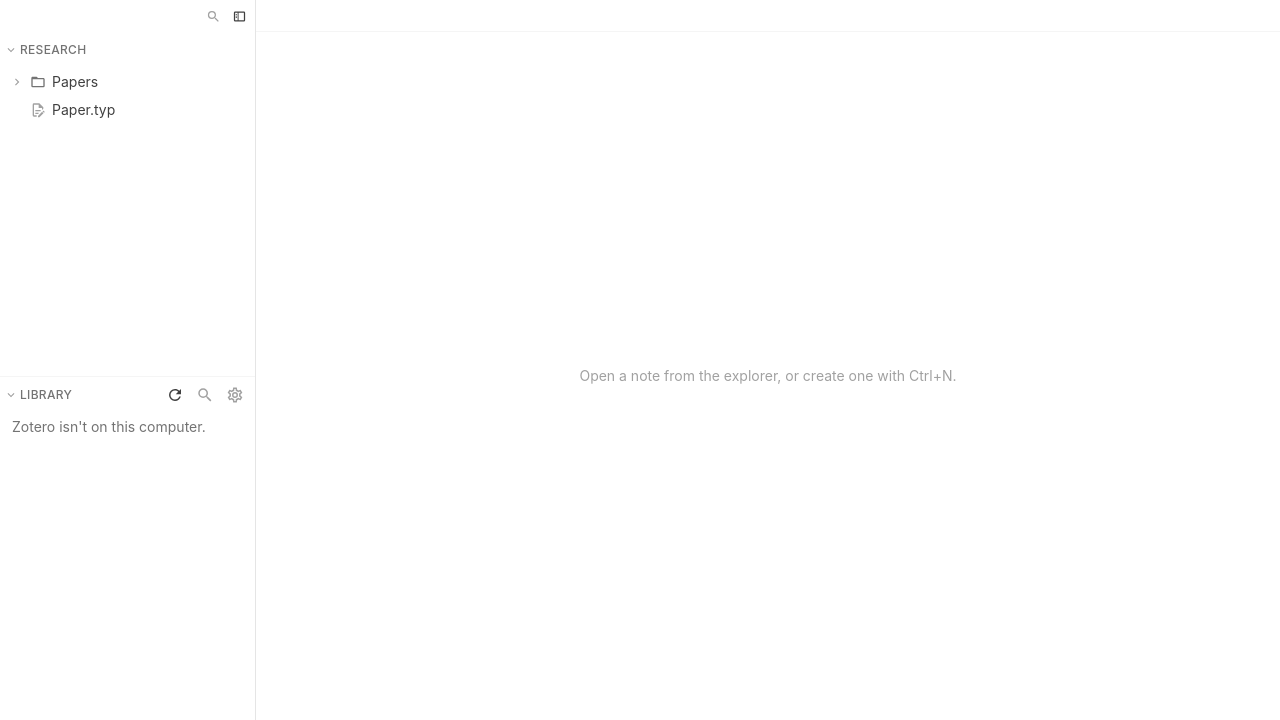
Test: Going to a page › typing a page number there goes to it
Click the button "Papers": (128, 82) [6,68,249,96]
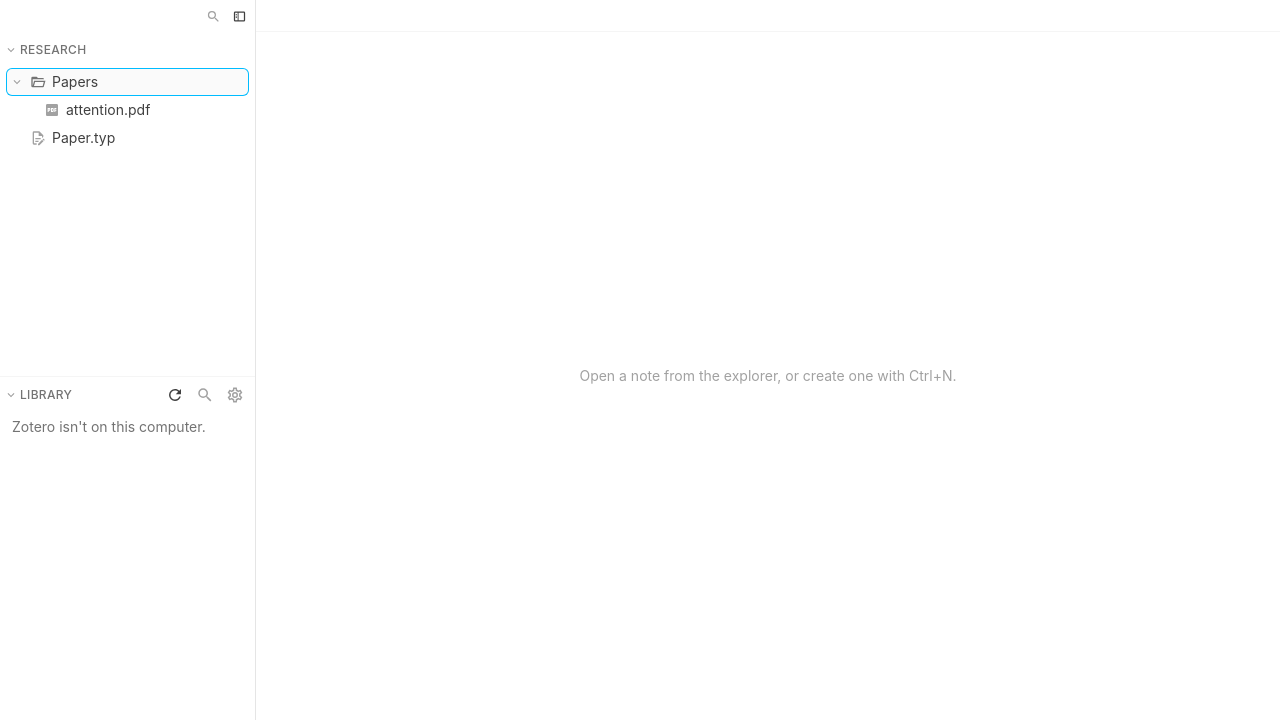
Click the button "attention.pdf": (128, 110) [6,96,249,124]
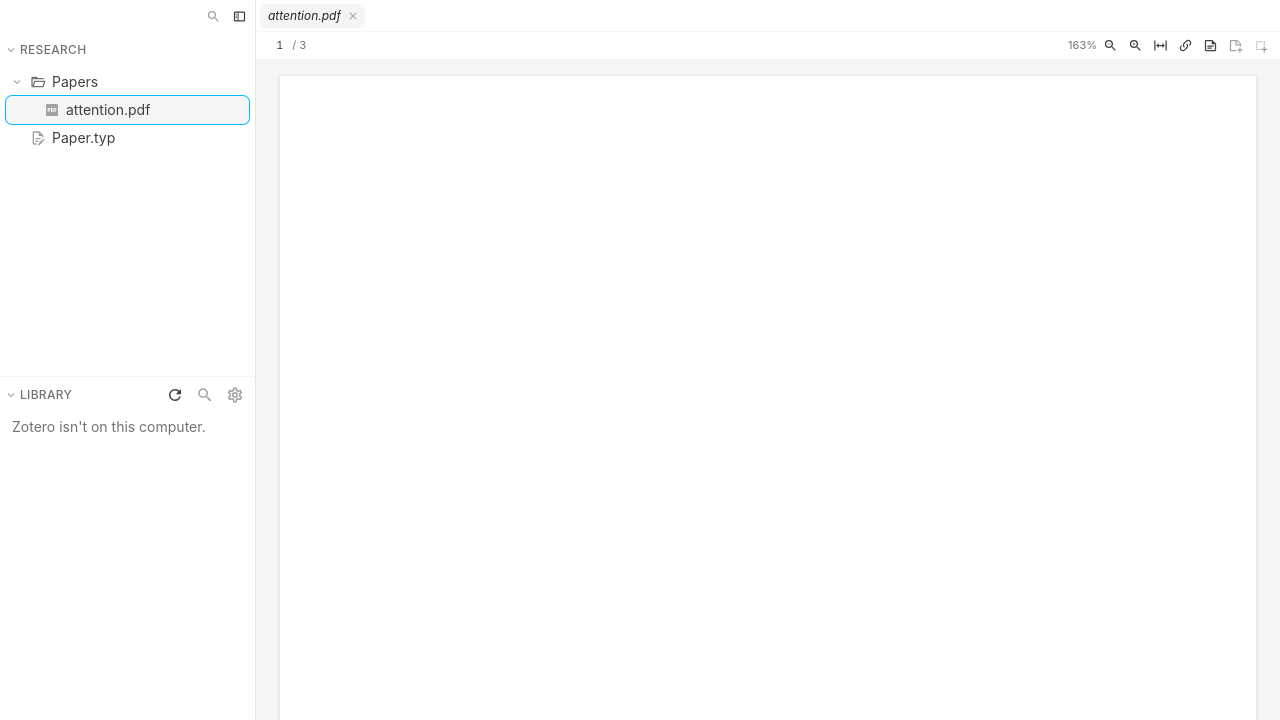
Click the field named "Page": (276, 46) [264,34,288,57]
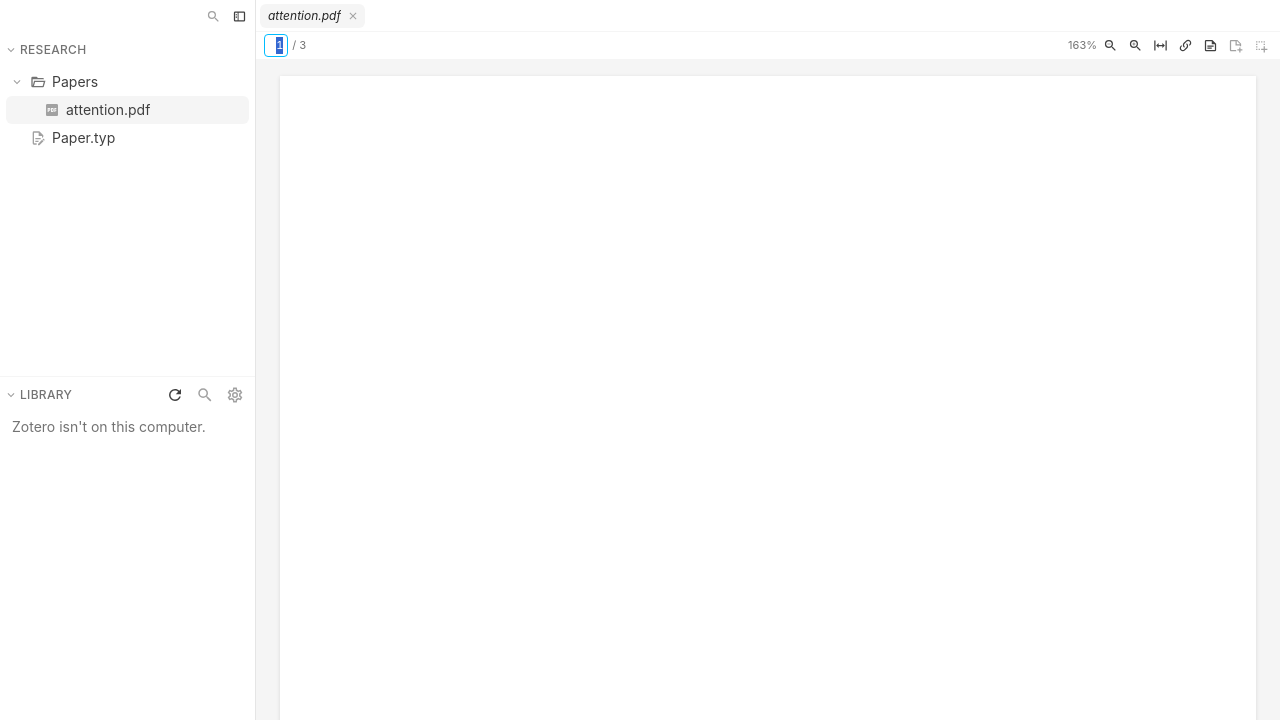
Type keys "{Control>}a{/Control}3{Enter}"
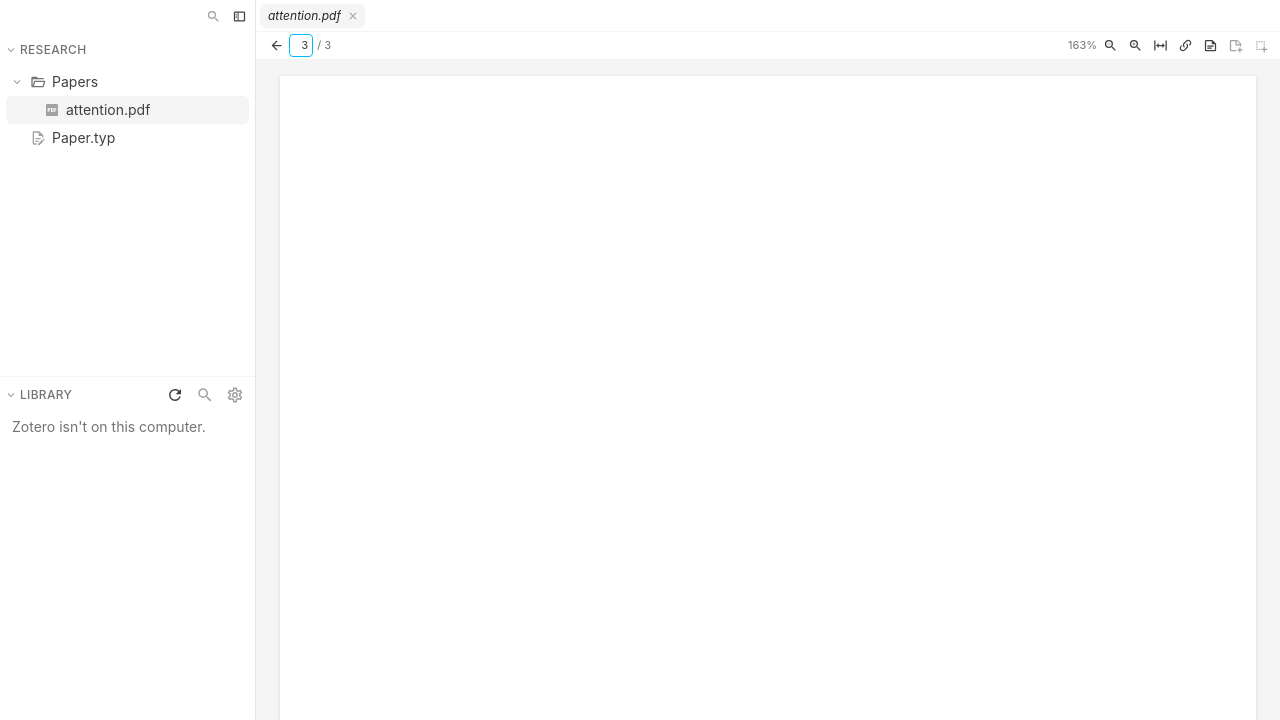
Check: the field named "Page" holds "3", box [289,34,313,57]
